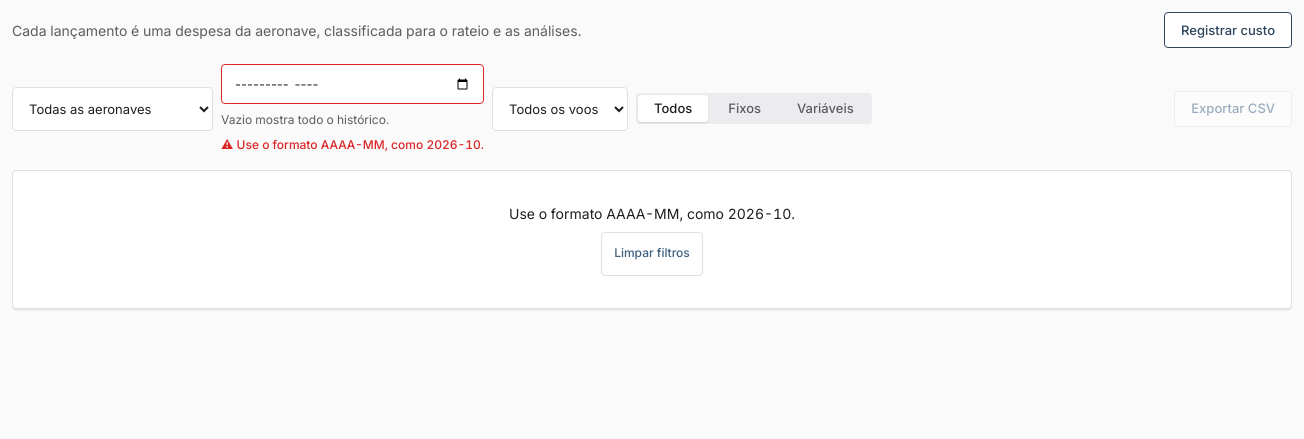
it: PaginaDeCustos › competência fora do formato na URL: o campo diz o formato e a grade nem consulta
The image size is (1304, 439).
expect the message shows "Use o formato AAAA-MM, como 2026-10.": met, box top-left (509, 205), bottom-right (795, 222)
Click the button "Limpar filtros": point(652, 254) top-left (601, 232), bottom-right (703, 276)
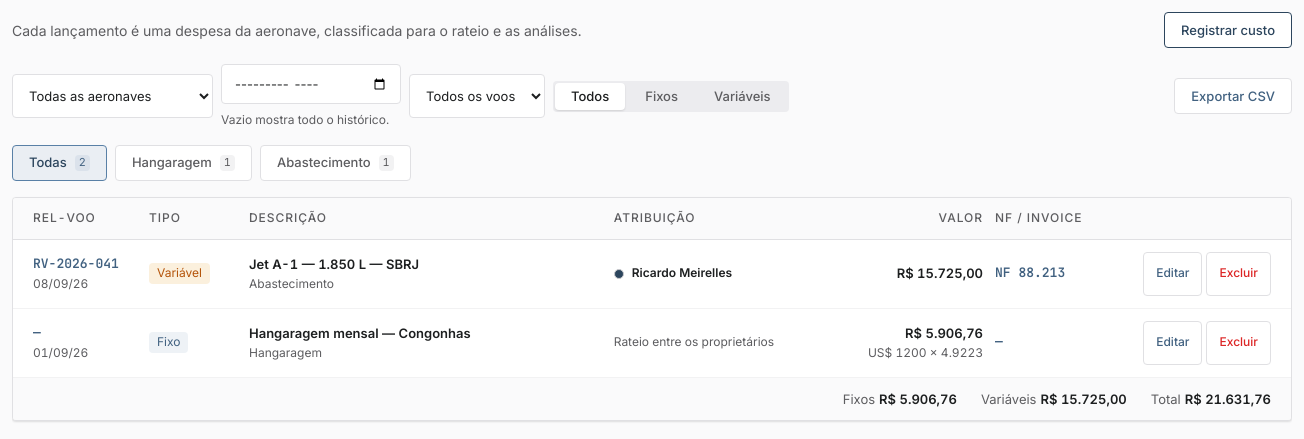
expect the text "Jet A-1 — 1.850 L — SBRJ" is shown: met, box top-left (249, 256), bottom-right (419, 272)
